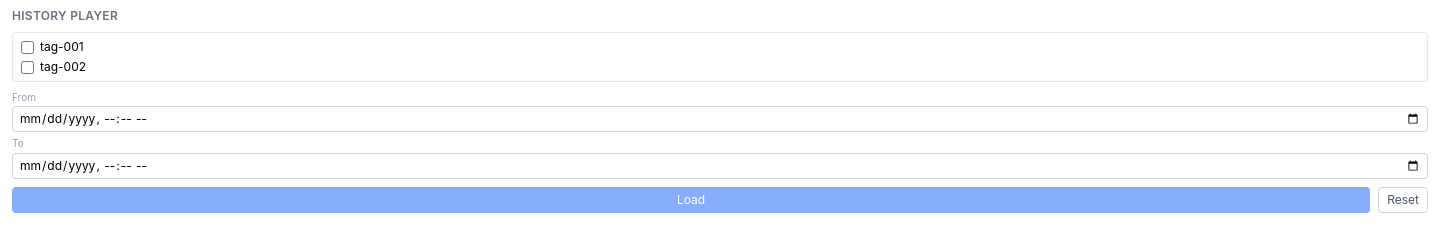
HistoryPlayer › enables load button when a tag is selected
Click the checkbox with test id "history-tag-tag-001": (28, 47) [21,40,34,54]
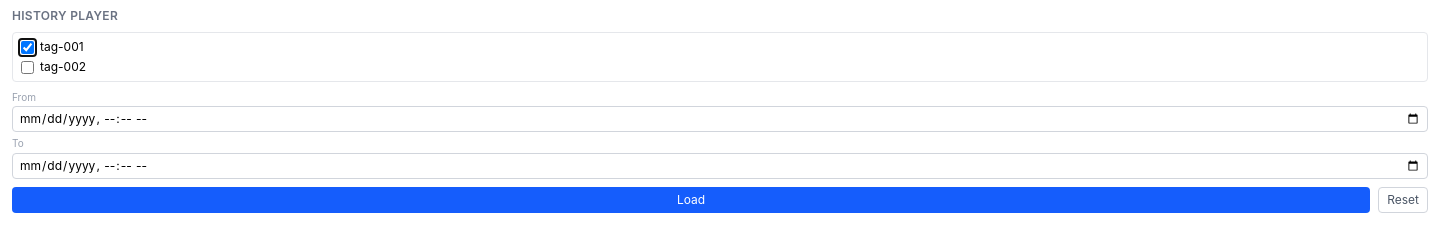
Expected: the button with test id "history-load" is enabled, [12,187,1370,213]
